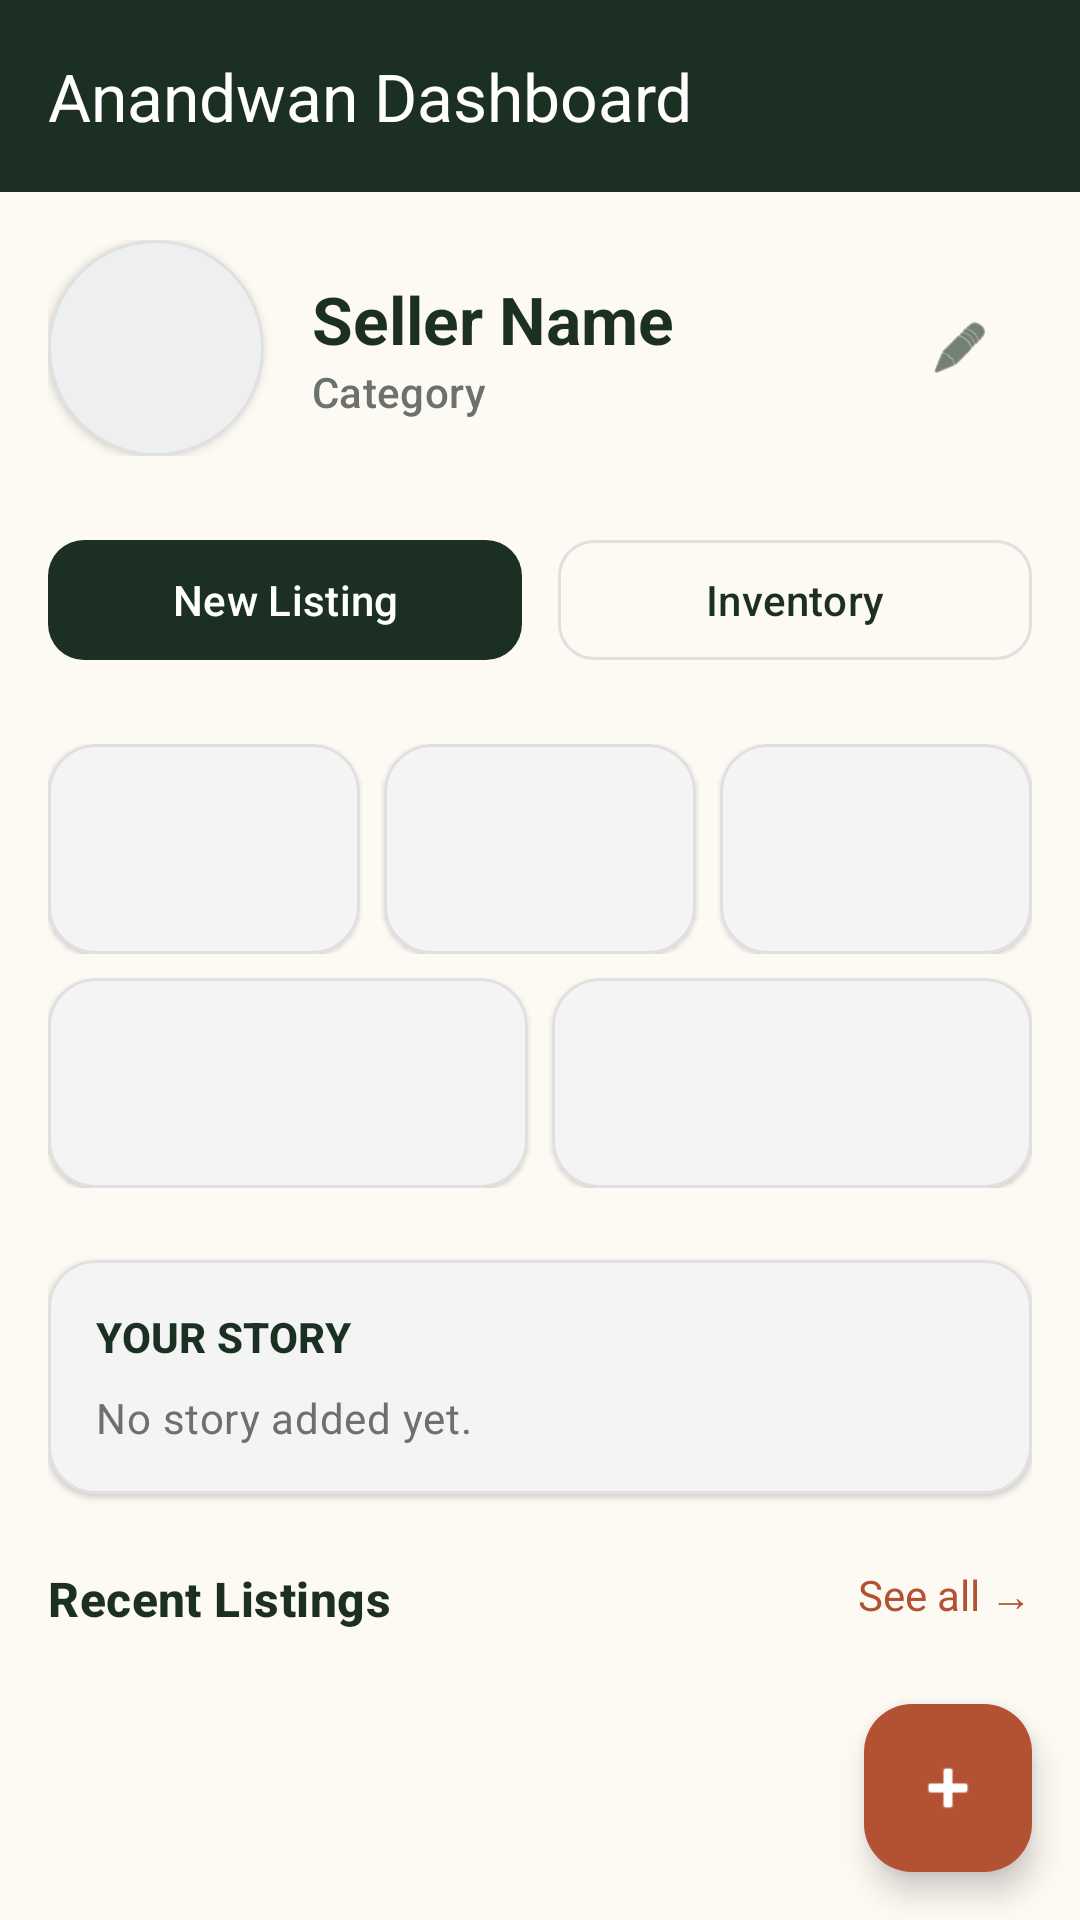

Screen size 1080*1920. Icon name, then its center in pixels as [x,y]:
add: [948,1788]
edit: [959,347]
